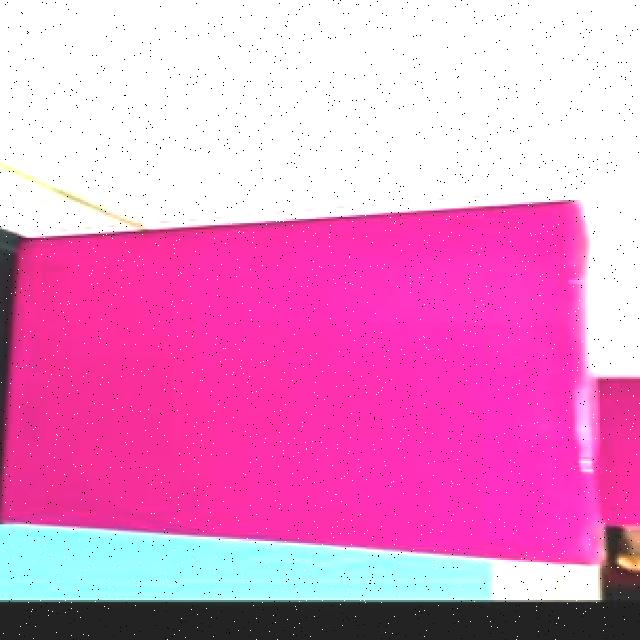xparking: (0, 203, 592, 565), (594, 377, 640, 525)
